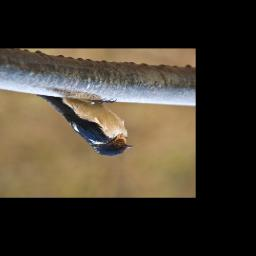Swallow: (37, 94, 135, 157)
